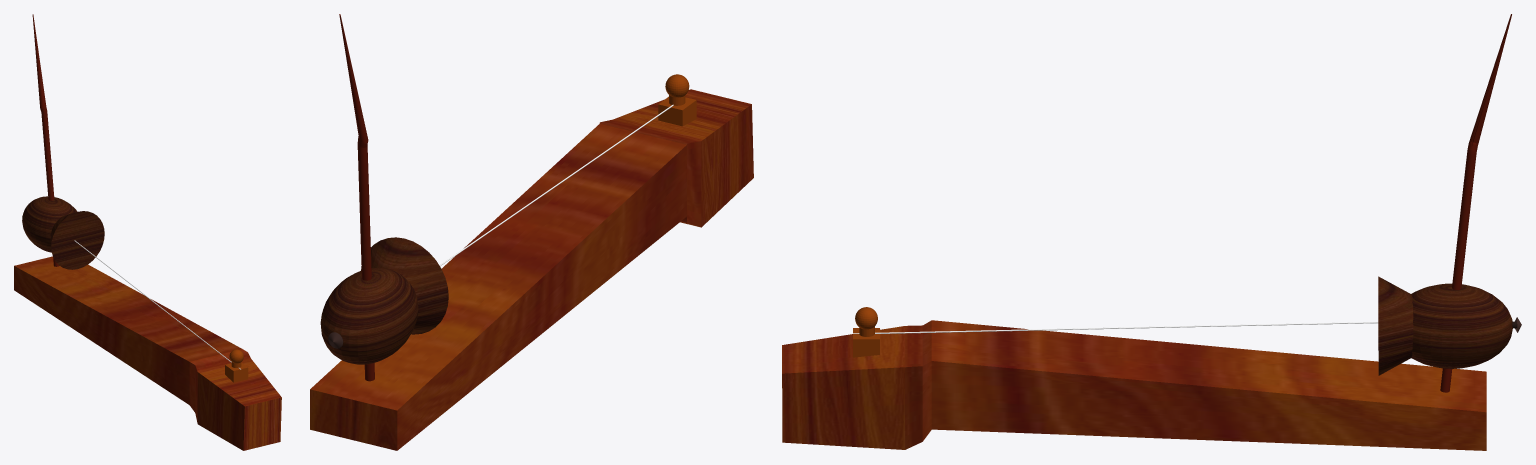
The model's file is dan_bau.gltf.
The picture shows the model from 3 angles, left to right: view 1: azimuth 30°, elevation 25°; view 2: azimuth 150°, elevation 25°; view 3: azimuth 270°, elevation 25°; orthographic projection. The views are drawn at different scales.
Parts seen in each view (by area): view 1: Cube; view 2: Cube; view 3: Cube.
Boxes of the visible parts, x1,y1,x2,y2 form: Cube: [14, 14, 281, 450]; Cube: [310, 14, 753, 450]; Cube: [782, 14, 1521, 450].
Bounding box in the file's own units: 2.27 × 10.08 × 16.2.
8 materials, 3 textured.
